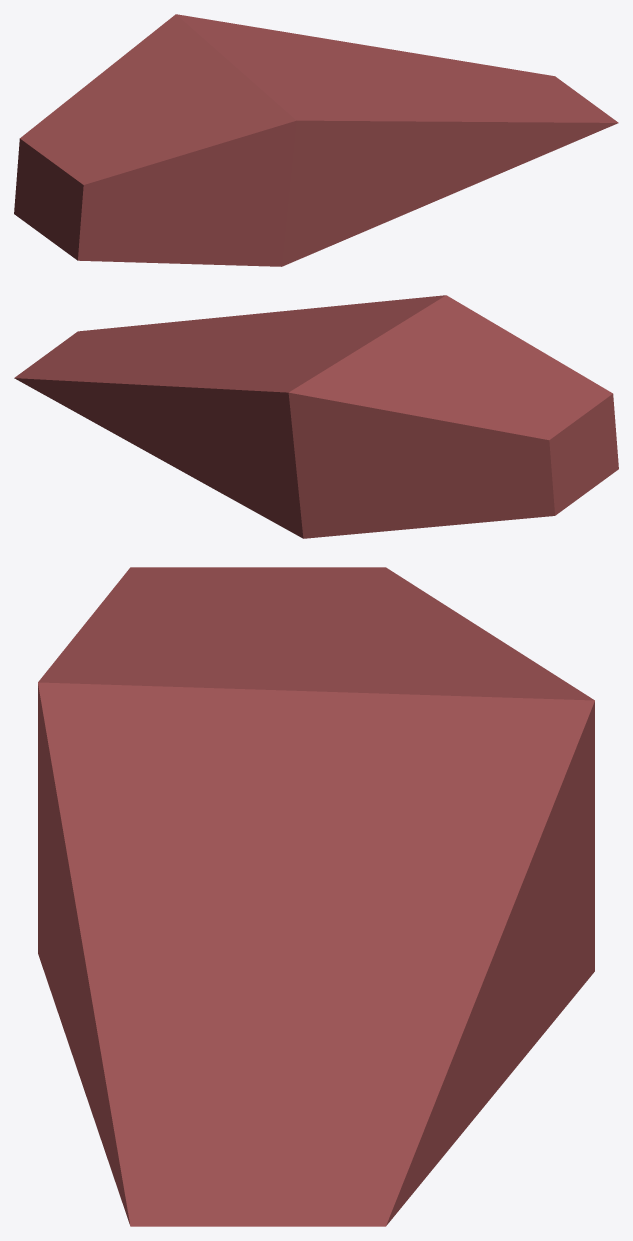
File: redfishDead_low.glb
The picture shows the model from 3 angles, top to bottom: view 1: azimuth 30°, elevation 25°; view 2: azimuth 150°, elevation 25°; view 3: azimuth 270°, elevation 25°; orthographic projection. The views are drawn at different scales.
Visible parts, largest first — view 1: Cube; view 2: Cube; view 3: Cube.
Boxes of the visible parts, left/top/right/bottom form: Cube: left=14, top=14, right=618, bottom=266; Cube: left=14, top=295, right=618, bottom=538; Cube: left=38, top=567, right=594, bottom=1226.
Bounding box in the file's own units: 0.4231 × 0.1065 × 0.1886.
